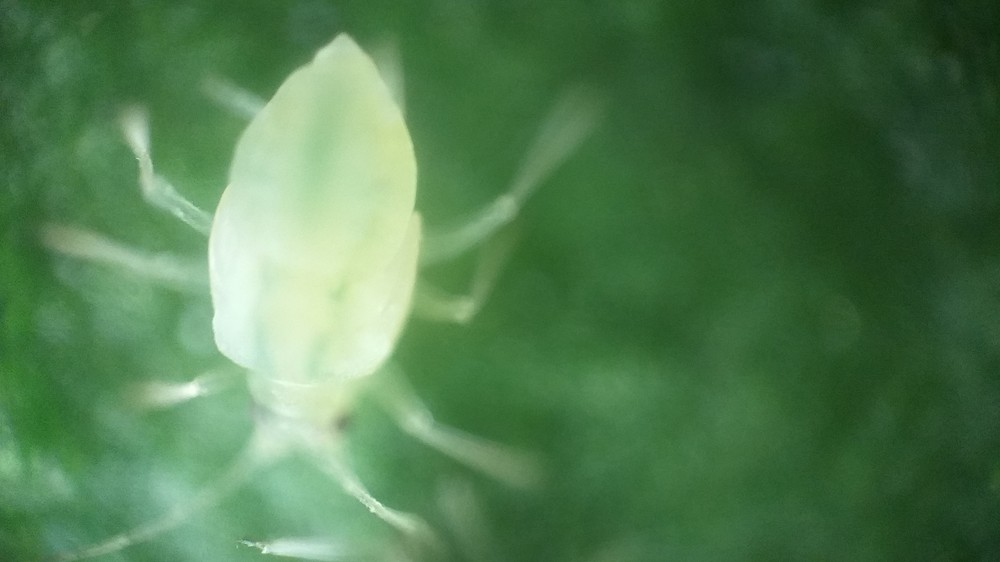Pulgon: (63, 25, 555, 539)
